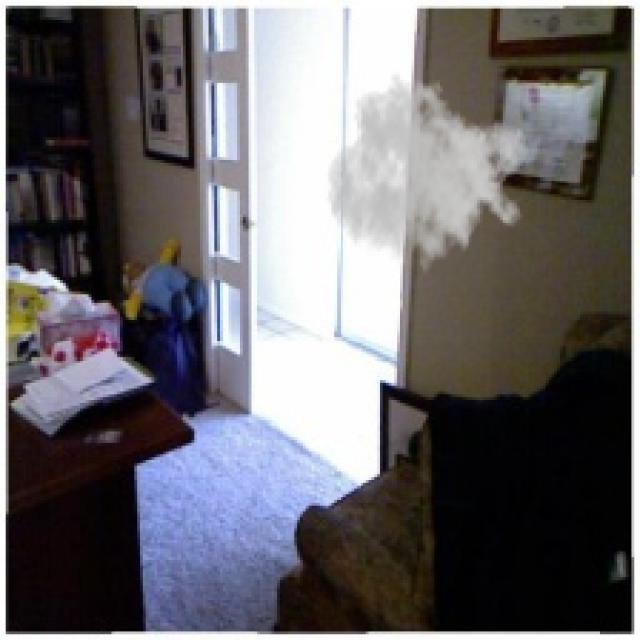smoke: (326, 71, 531, 286)
